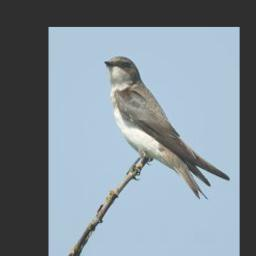Swallow: (103, 55, 230, 200)
